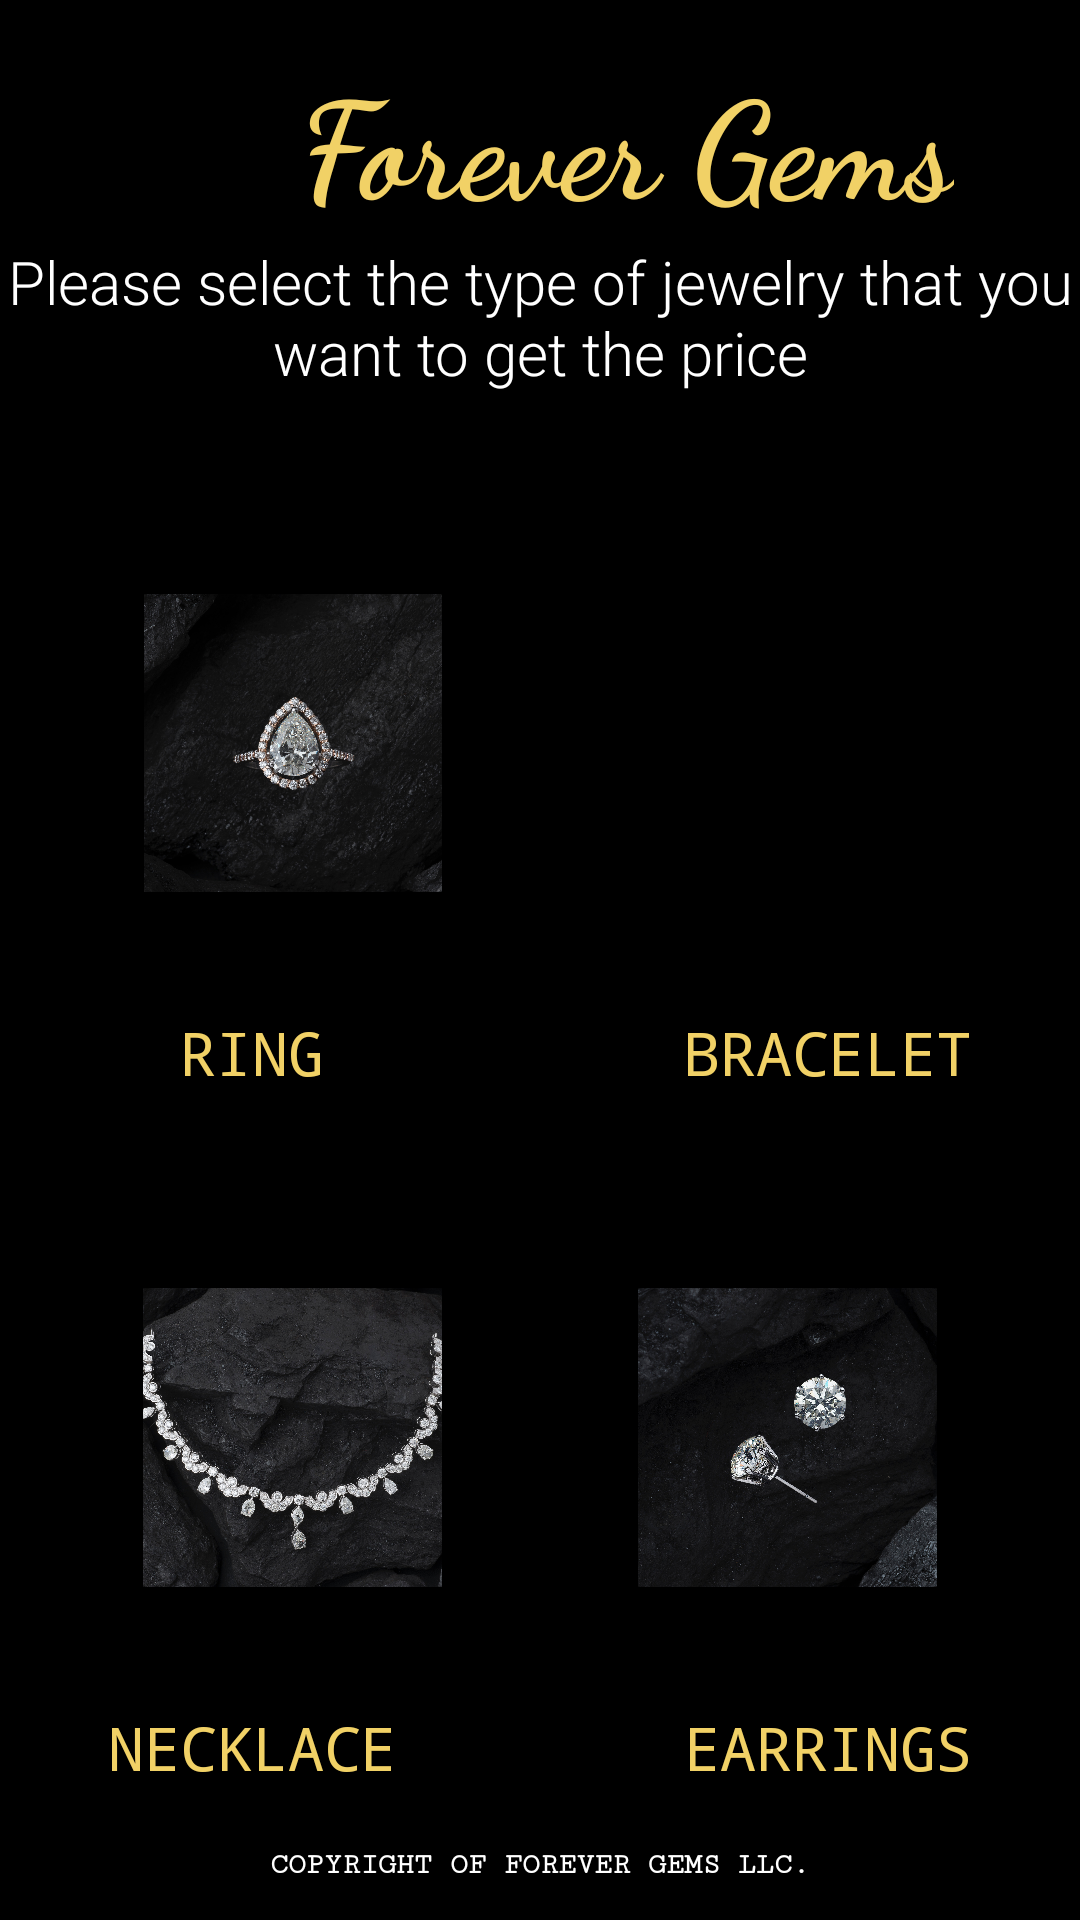

Where to tap for icons on this 1080 × 1920 app screen, as (x,y):
earringphoto: (787,1437)
necklacephoto: (292,1437)
ringphoto: (293,743)
